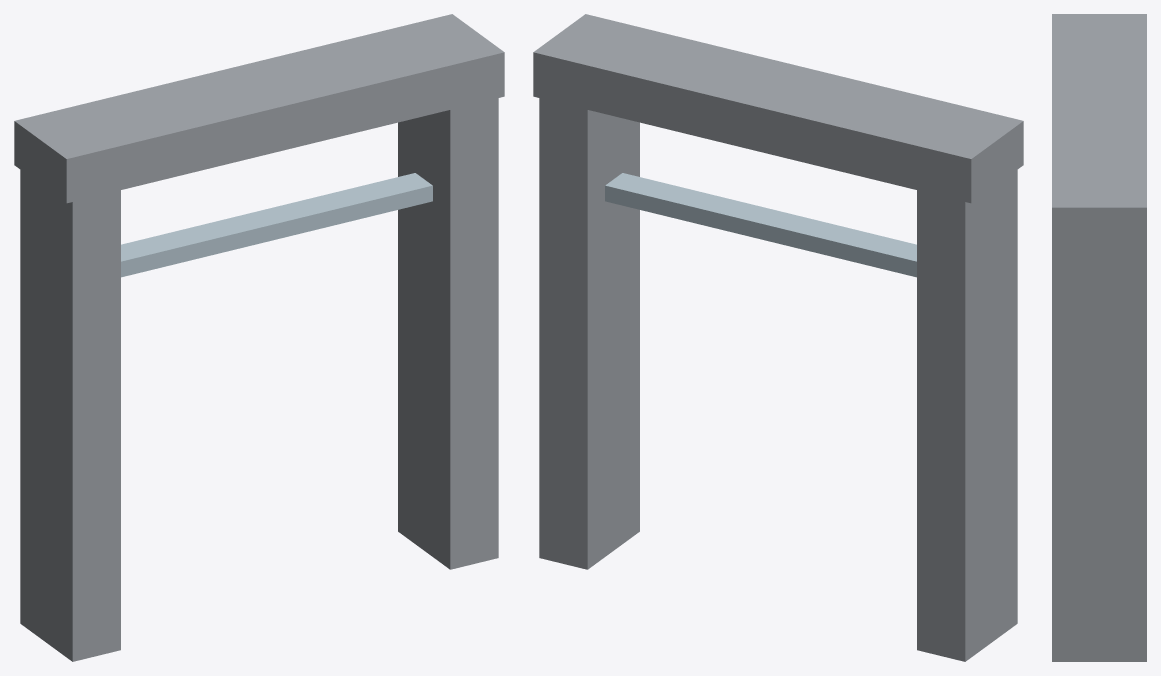
File: prism_gate.glb
The picture shows the model from 3 angles, left to right: view 1: azimuth 30°, elevation 25°; view 2: azimuth 150°, elevation 25°; view 3: azimuth 270°, elevation 25°; orthographic projection. The views are drawn at different scales.
Parts seen in each view (by area): view 1: world; view 2: world; view 3: world.
Boxes of the visible parts, x1,y1,x2,y2 form: world: (14, 14, 504, 661); world: (533, 14, 1023, 661); world: (1052, 14, 1146, 661).
Bounding box in the file's own units: 2.9 × 3.19 × 0.6.
